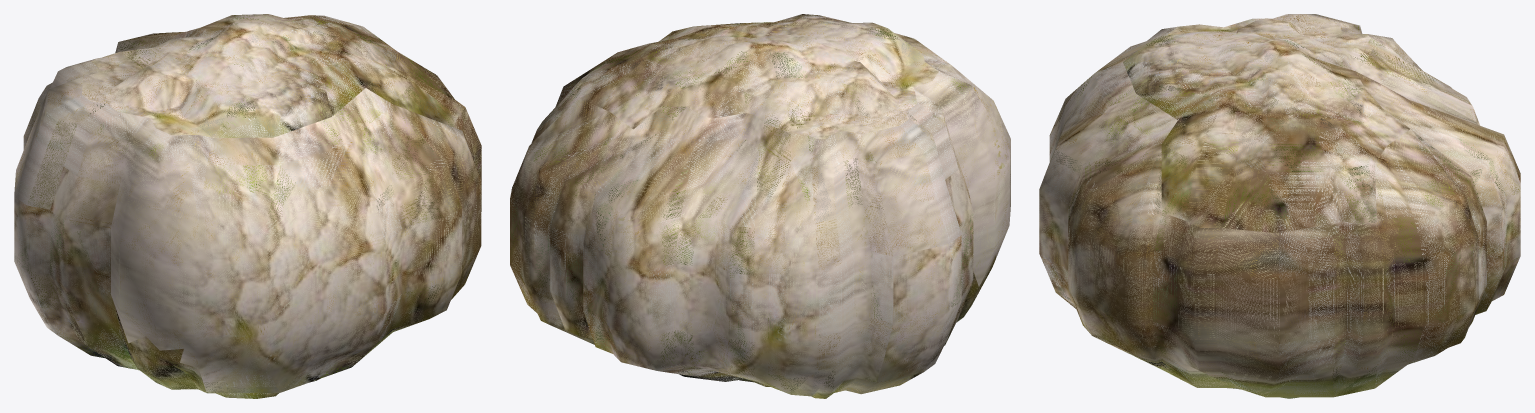
Rendered from coliflower.dae.
The picture shows the model from 3 angles, left to right: view 1: azimuth 30°, elevation 25°; view 2: azimuth 150°, elevation 25°; view 3: azimuth 270°, elevation 25°; orthographic projection. The views are drawn at different scales.
Parts seen in each view (by area): view 1: group_0 (×3); view 2: group_0 (×4); view 3: group_0 (×5).
Part boxes in pixels (x1,y1,x2,y2): group_0 (×3): (14,14,481,398); group_0 (×4): (510,14,1010,398); group_0 (×5): (1039,14,1520,397).
Size of the model in its own units: 5.56 by 5.66 by 4.14.
Materials: 4 (4 with a texture image).
